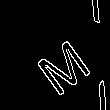M_NW: (22, 23, 89, 92)
